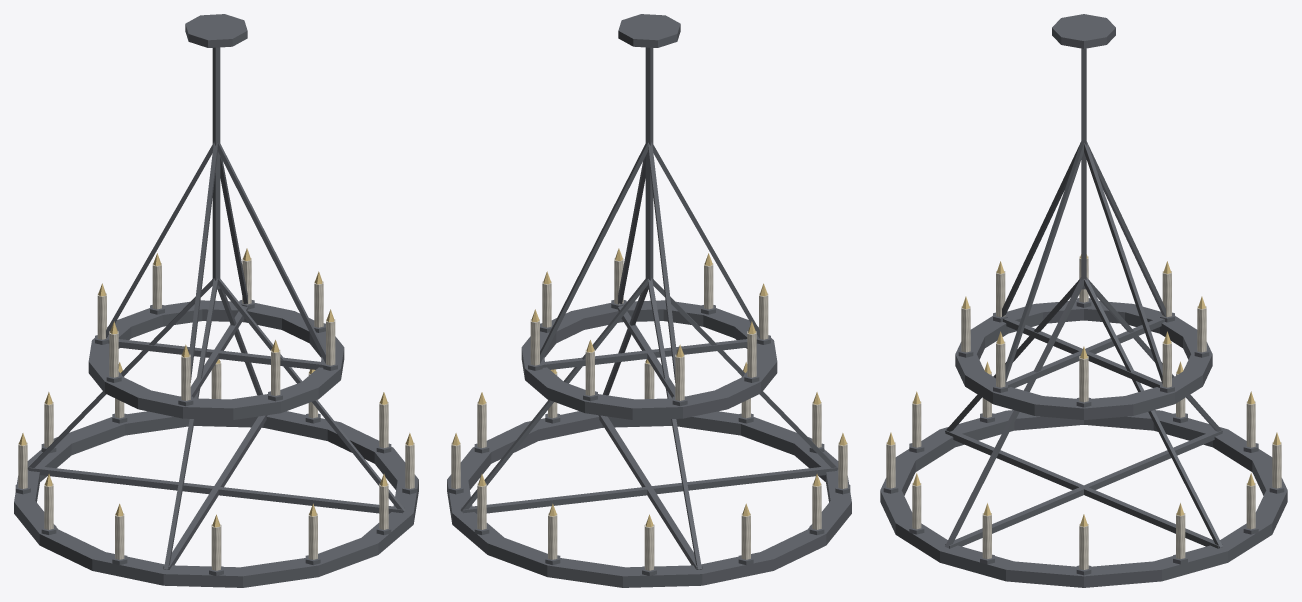
3 views of the same model, side by side, from view 1: azimuth 30°, elevation 25°; view 2: azimuth 150°, elevation 25°; view 3: azimuth 270°, elevation 25° (orthographic).
Visible parts, largest first — view 1: iron-chandelier; view 2: iron-chandelier; view 3: iron-chandelier.
Boxes of the visible parts, x1,y1,x2,y2 form: iron-chandelier: [14, 14, 418, 587]; iron-chandelier: [447, 14, 851, 587]; iron-chandelier: [880, 14, 1287, 587].
Bounding box in the file's own units: 1.9 × 2.44 × 1.9.
Materials: 3 (1 with a texture image).
